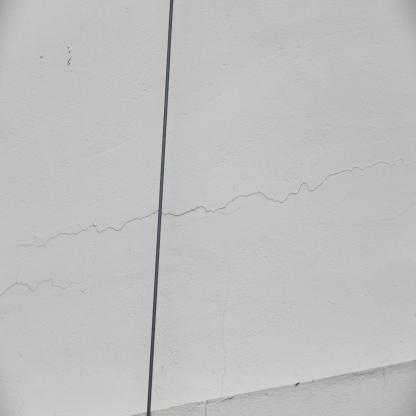crack: (161, 157, 416, 217), (15, 209, 159, 249)
